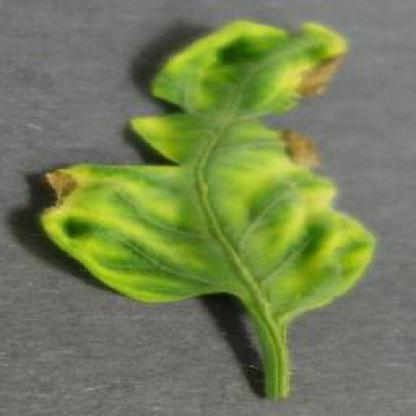good leaf: (18, 16, 412, 406)
